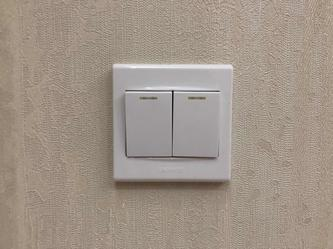switch: (121, 88, 177, 161), (170, 89, 224, 161)
